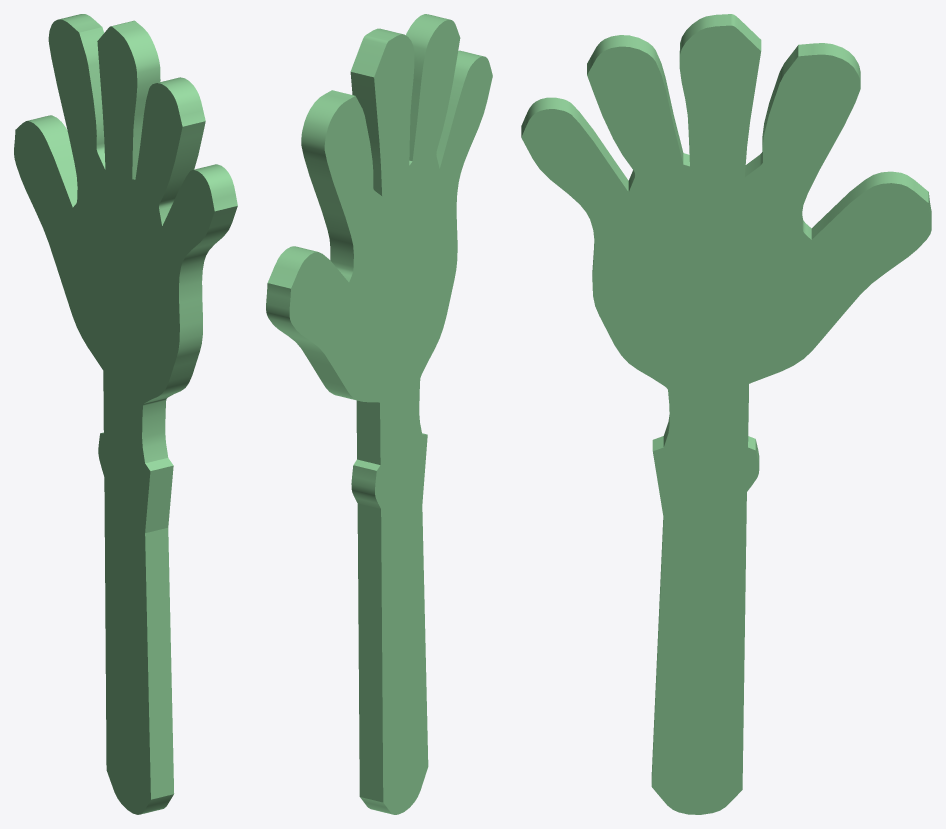
File: plastic_hand_16cm_wide.dae
The picture shows the model from 3 angles, left to right: view 1: azimuth 30°, elevation 25°; view 2: azimuth 150°, elevation 25°; view 3: azimuth 270°, elevation 25°; orthographic projection. The views are drawn at different scales.
Visible parts, largest first — view 1: Shape_IndexedFaceSet; view 2: Shape_IndexedFaceSet; view 3: Shape_IndexedFaceSet.
Part boxes in pixels (box(x1,y1,x2,y2)): Shape_IndexedFaceSet: box(14, 14, 237, 814); Shape_IndexedFaceSet: box(266, 14, 492, 814); Shape_IndexedFaceSet: box(521, 14, 931, 814).
Size of the model in its own units: 0.01 by 0.1498 by 0.3181.
